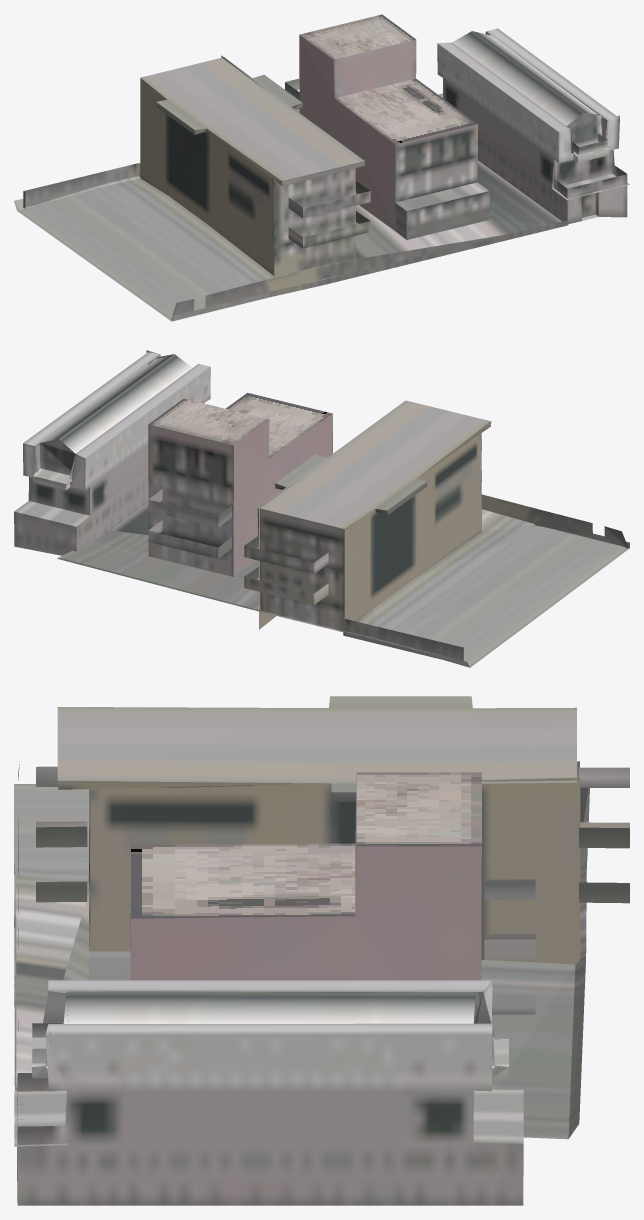
File: lodtahousegrp_law2.obj
3 views of the same model, one above another, from view 1: azimuth 30°, elevation 25°; view 2: azimuth 150°, elevation 25°; view 3: azimuth 270°, elevation 25° (orthographic). The views are drawn at different scales.
Parts seen in each view (by area): view 1: LODtahousegrp_law2; view 2: LODtahousegrp_law2; view 3: LODtahousegrp_law2.
Boxes of the visible parts, <box> form: LODtahousegrp_law2: <box>14,14,629,321</box>; LODtahousegrp_law2: <box>14,350,629,667</box>; LODtahousegrp_law2: <box>14,696,629,1205</box>.
Bounding box in the file's own units: 40.72 × 12.45 × 25.93.
Materials: 2 (2 with a texture image).
